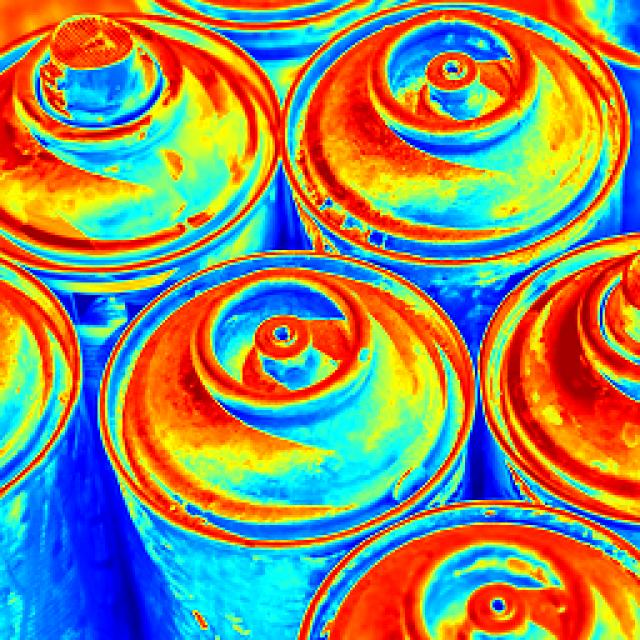Aerosol Cans: (11, 7, 634, 637)
